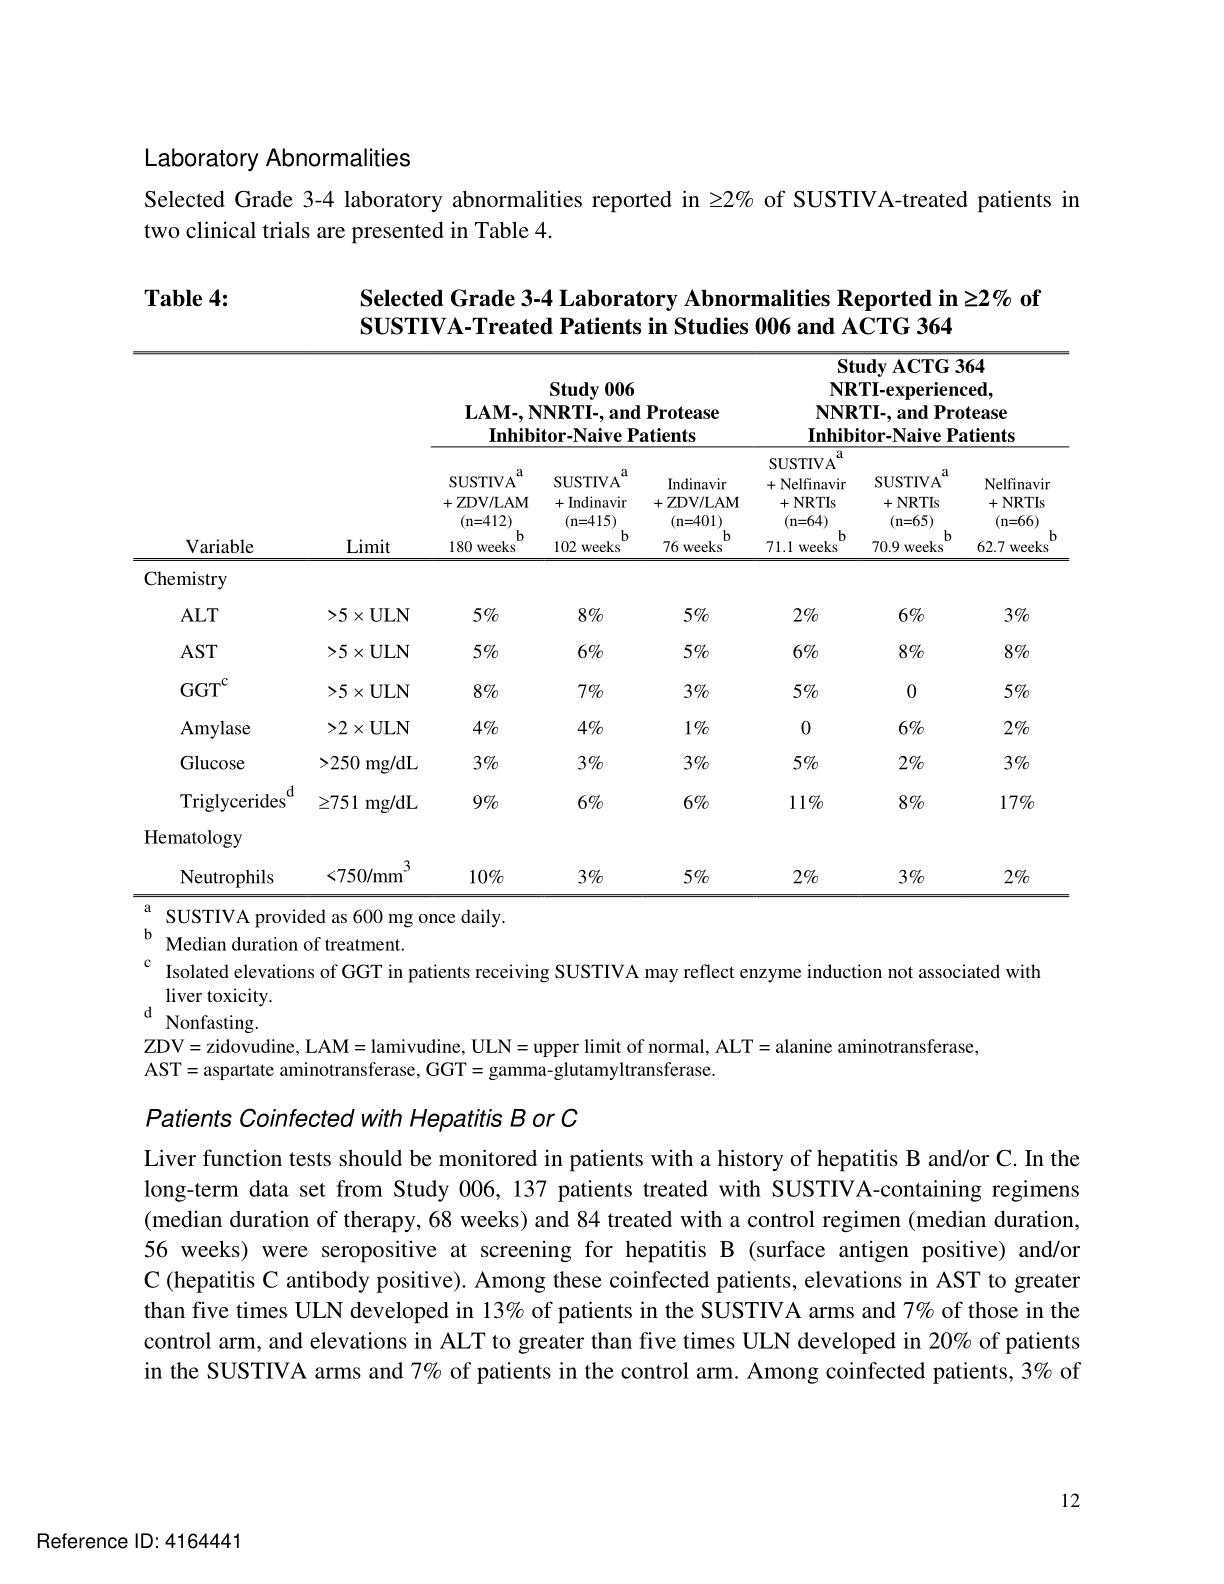partial_lined_merged_cells: (130, 348, 1071, 900)
